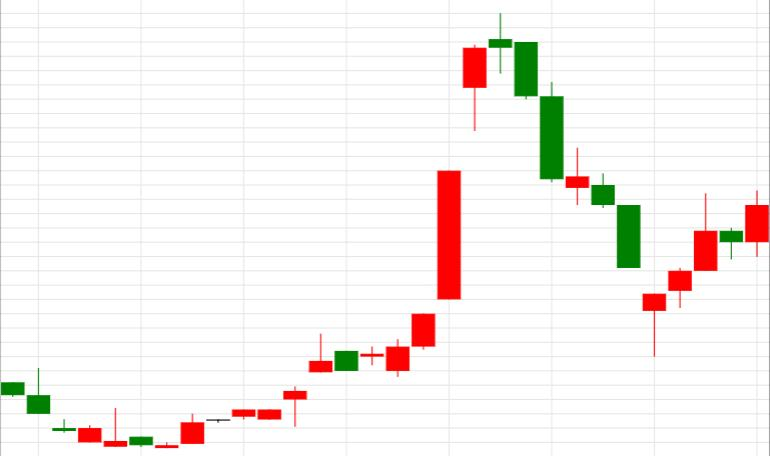morning_star_rise: (386, 13, 538, 376)
